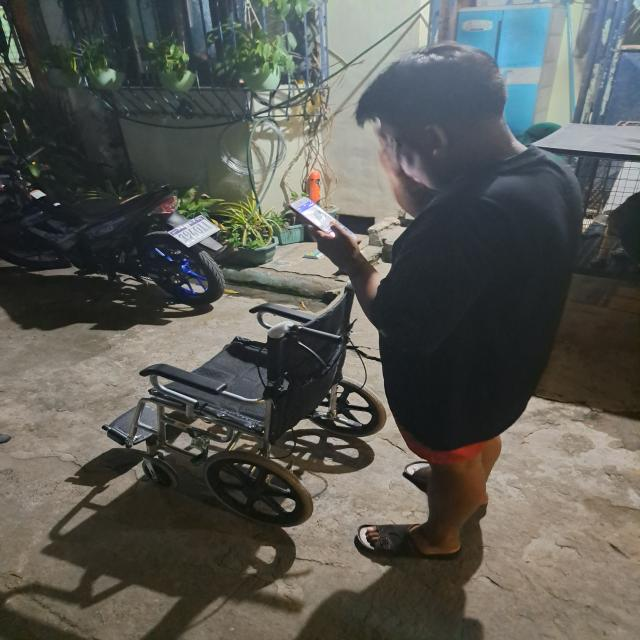wheelchairs: (109, 286, 392, 540)
